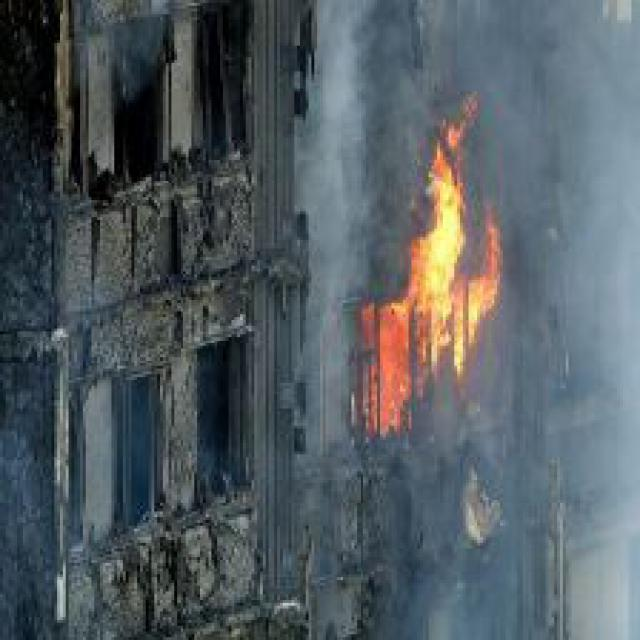fire: (357, 83, 506, 440)
